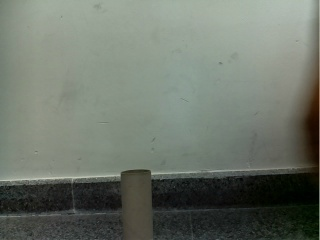rollo papel: (121, 170, 152, 240)
